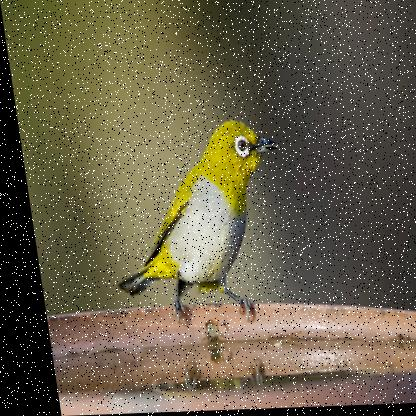Burung: (89, 120, 296, 327)
